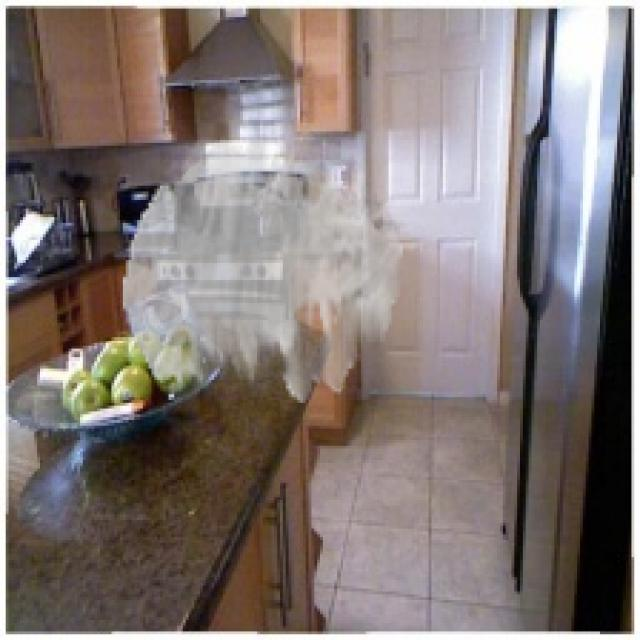smoke: (123, 134, 403, 403)
